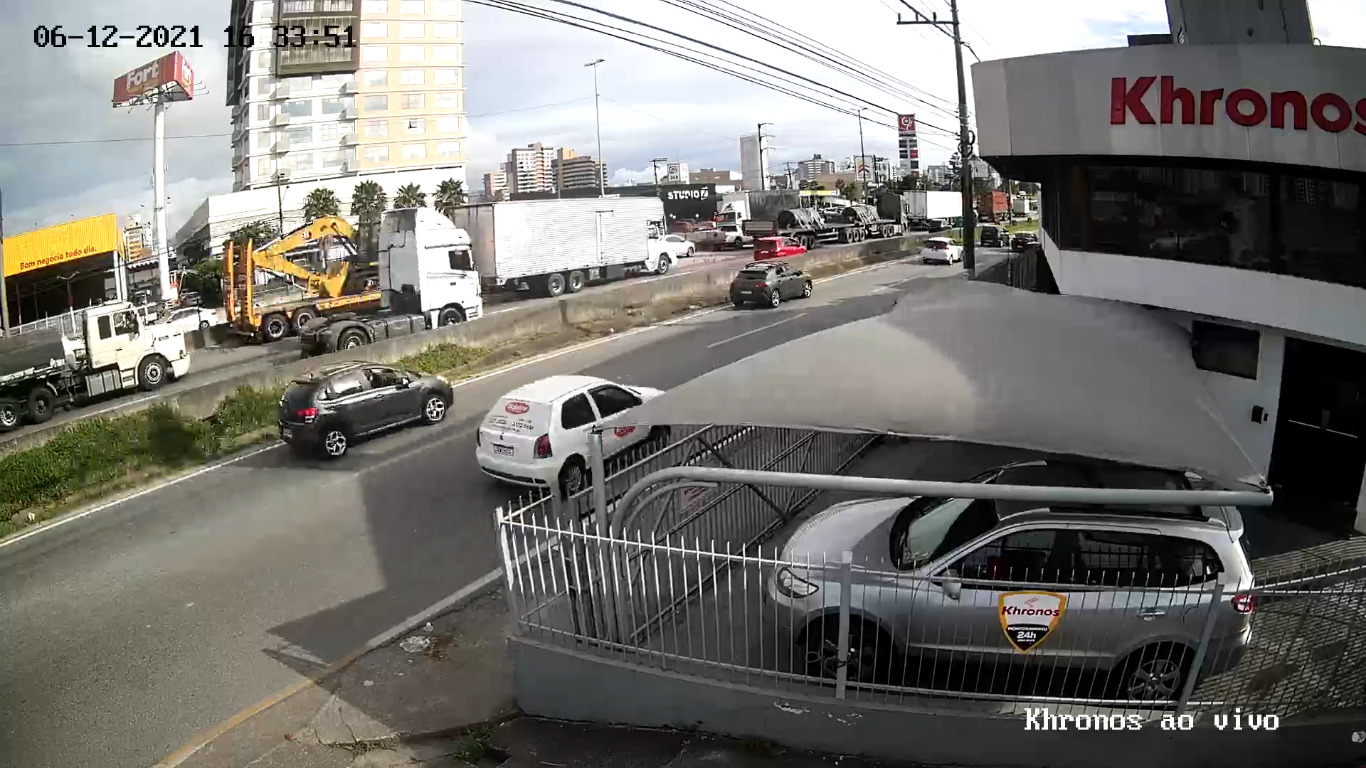car: (475, 375, 673, 495), (277, 361, 454, 460), (729, 261, 813, 311)
